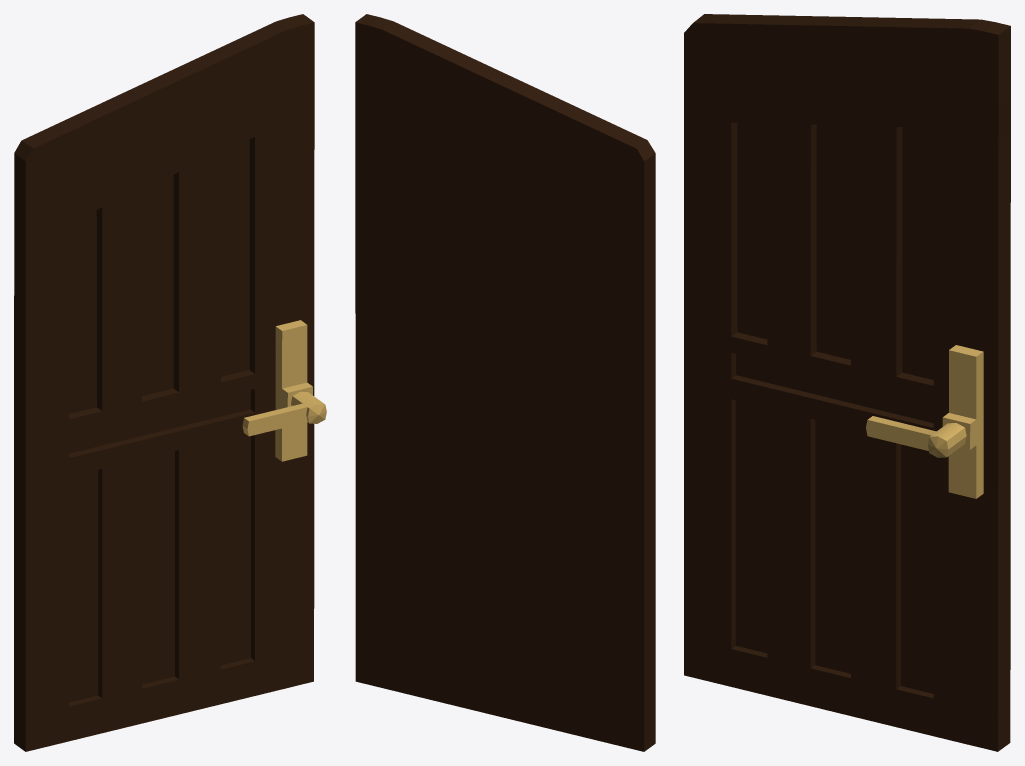
Rendered from MiscDoorLeftUV.fbx.
3 renders of one model, left to right at view 1: azimuth 30°, elevation 25°; view 2: azimuth 150°, elevation 25°; view 3: azimuth 330°, elevation 25°, orthographic. The views are drawn at different scales.
Visible parts, largest first — view 1: doorL; view 2: doorL; view 3: doorL.
Part boxes in pixels (x1,y1,x2,y2): doorL: [14, 14, 326, 751]; doorL: [355, 14, 655, 751]; doorL: [684, 14, 1010, 751].
Size of the model in its own units: 122 by 267 by 31.02.
